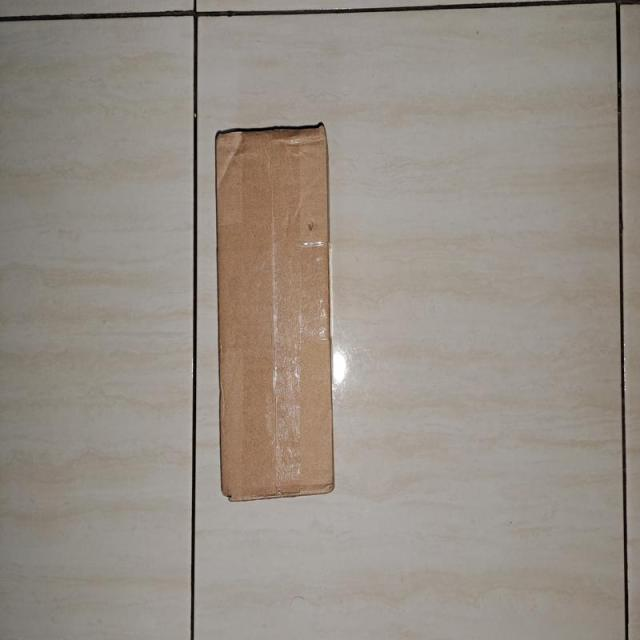Organik: (205, 106, 348, 508)
